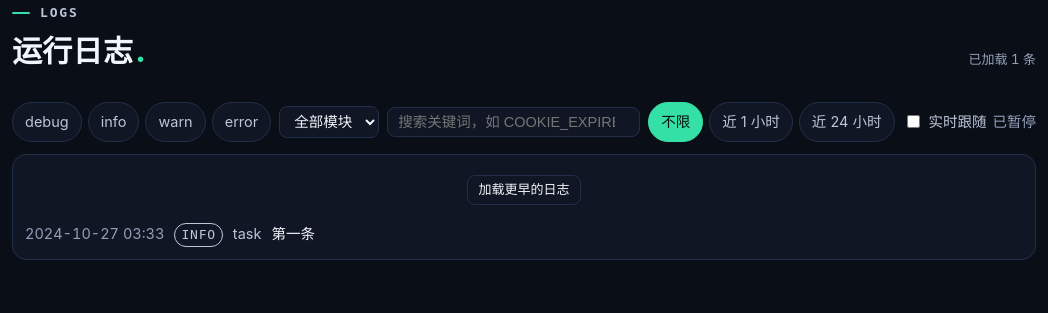
Test: Logs 视图 › 分页：next_cursor 前进时出现「加载更早的日志」，点击带 cursor 且结果前插不覆盖
expect the number of list items with class "log-row" is 1: met, box left=25, top=223, right=315, bottom=247
Click the button "加载更早的日志" at (524, 190), box left=468, top=175, right=580, bottom=205
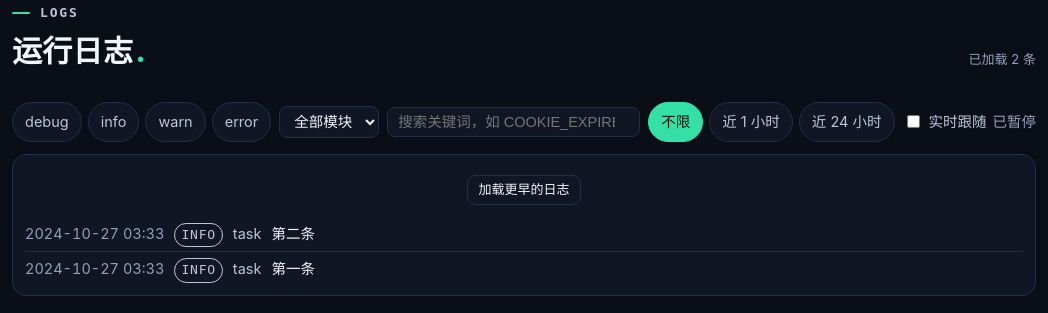
expect the list item with class "log-row" shows "第一条": met, box left=271, top=261, right=315, bottom=277
expect the number of list items with class "log-row" is 2: met, box left=25, top=217, right=1023, bottom=252; left=25, top=258, right=315, bottom=283
expect the list item with class "log-row" shows "第二条": met, box left=271, top=226, right=315, bottom=242
